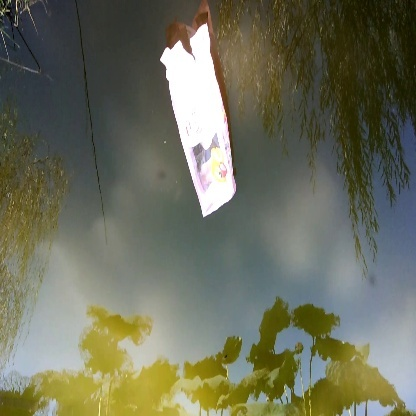plastic-bag: (160, 20, 246, 217)
